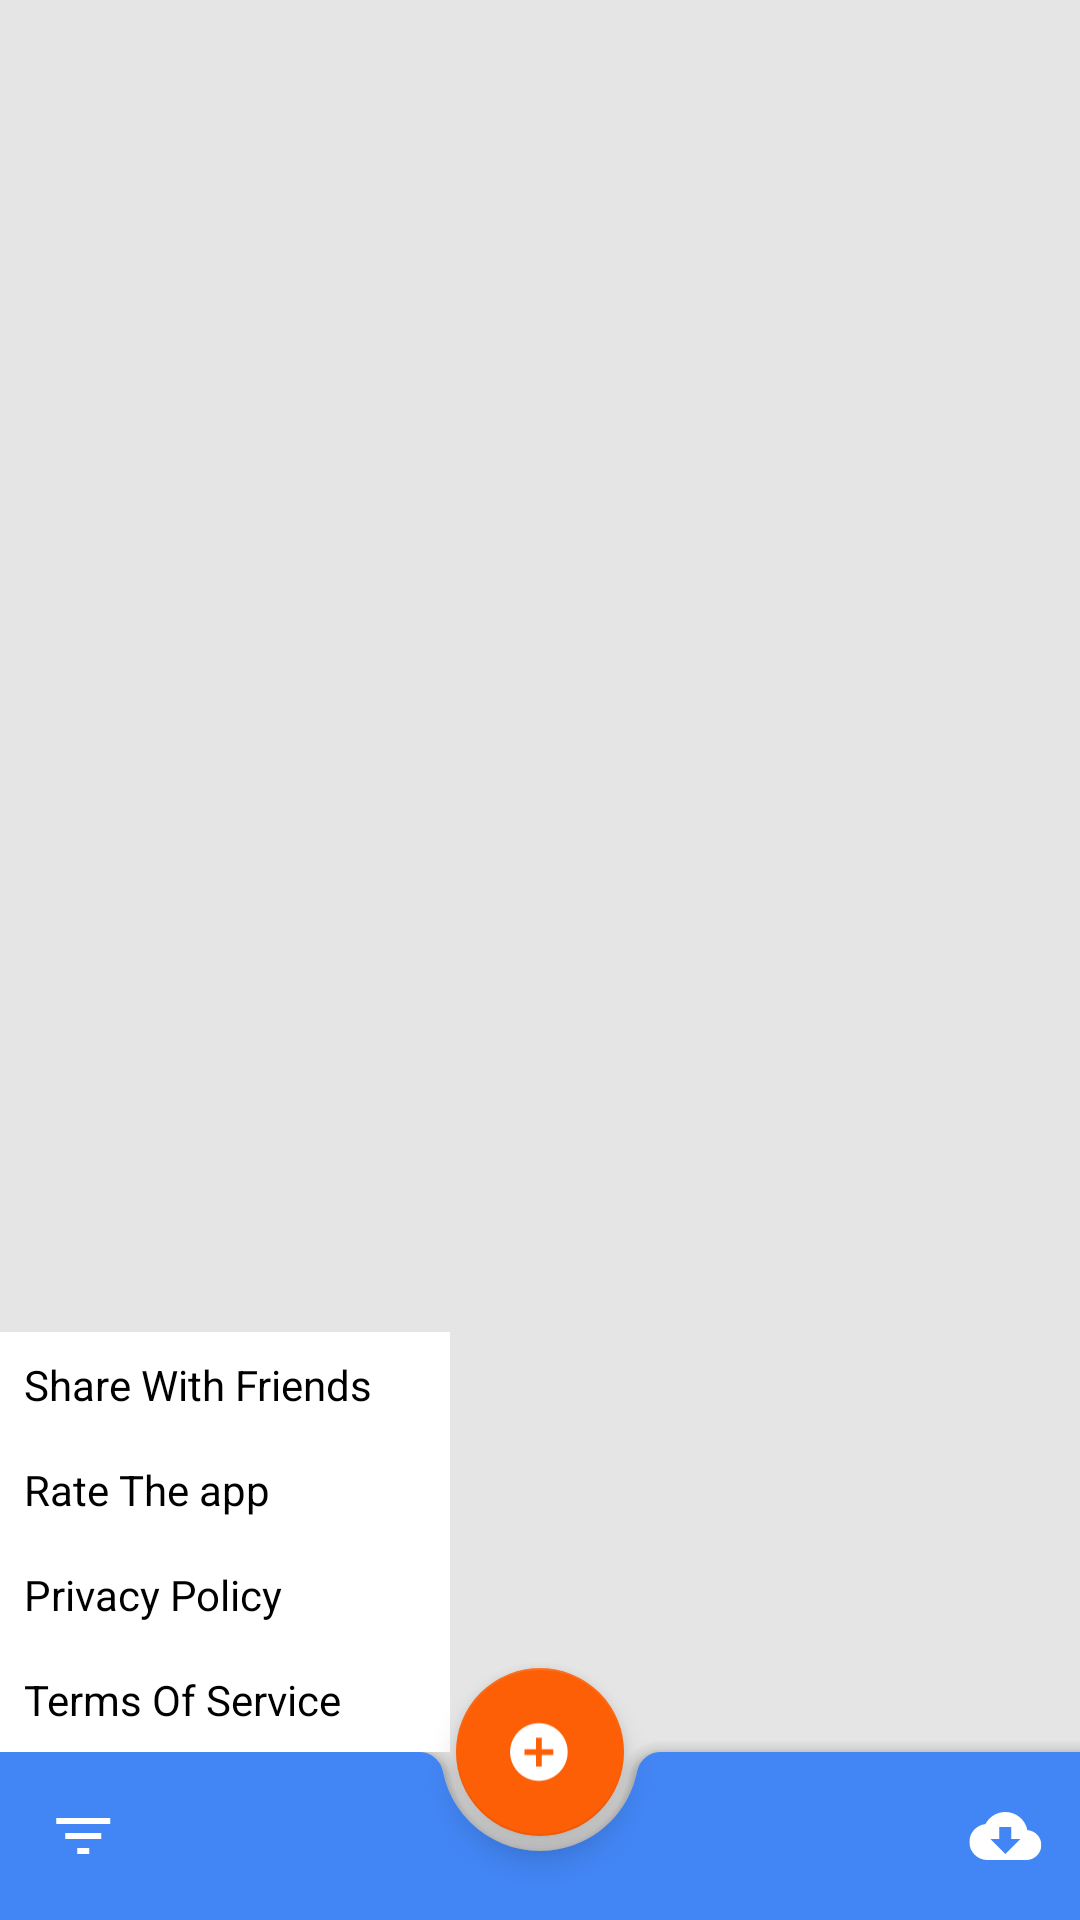

Point at icon controls on the screen. Image size 1080px×1920px, points as point (x, y).
add circle: point (540, 1752)
